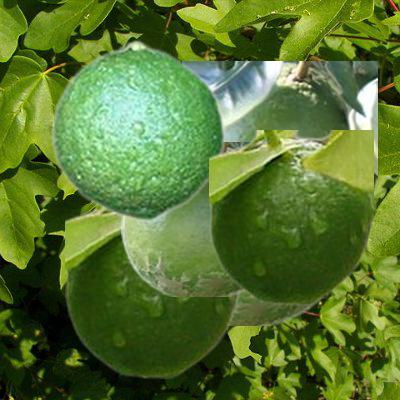dalandan: (49, 39, 225, 221), (65, 208, 239, 377), (209, 130, 372, 304), (184, 61, 376, 198), (121, 142, 247, 295), (232, 293, 321, 324)
